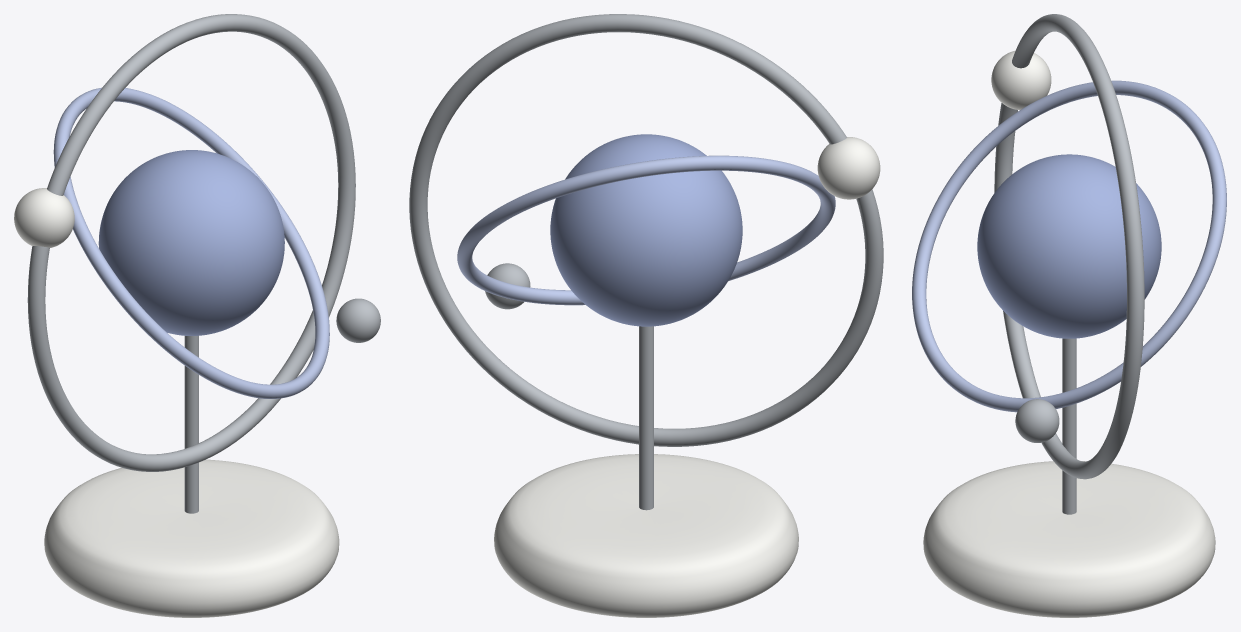
File: orbit-sculpture.glb
The picture shows the model from 3 angles, left to right: view 1: azimuth 30°, elevation 25°; view 2: azimuth 150°, elevation 25°; view 3: azimuth 270°, elevation 25°; orthographic projection. The views are drawn at different scales.
Parts seen in each view (by area): view 1: sculpted-surface, outer-orbital-ring-/-inner-orbital-ring-/-orbiting-satellite (×4), polished-central-sphere-005, turned-ceramic-plinth-002; view 2: sculpted-surface, outer-orbital-ring-/-inner-orbital-ring-/-orbiting-satellite (×4), polished-central-sphere-005, turned-ceramic-plinth-002; view 3: sculpted-surface, outer-orbital-ring-/-inner-orbital-ring-/-orbiting-satellite (×4), polished-central-sphere-005, turned-ceramic-plinth-002.
Boxes of the visible parts, x1=… form: sculpted-surface: x1=44, y1=459, x2=339, y2=617; outer-orbital-ring-/-inner-orbital-ring-/-orbiting-satellite (×4): x1=14, y1=14, x2=380, y2=471; polished-central-sphere-005: x1=98, y1=150, x2=284, y2=335; turned-ceramic-plinth-002: x1=184, y1=335, x2=198, y2=513; sculpted-surface: x1=494, y1=454, x2=798, y2=617; outer-orbital-ring-/-inner-orbital-ring-/-orbiting-satellite (×4): x1=409, y1=14, x2=883, y2=446; polished-central-sphere-005: x1=550, y1=134, x2=742, y2=326; turned-ceramic-plinth-002: x1=639, y1=326, x2=653, y2=510; sculpted-surface: x1=923, y1=461, x2=1215, y2=617; outer-orbital-ring-/-inner-orbital-ring-/-orbiting-satellite (×4): x1=912, y1=14, x2=1226, y2=479; polished-central-sphere-005: x1=977, y1=154, x2=1161, y2=338; turned-ceramic-plinth-002: x1=1062, y1=338, x2=1076, y2=514.
Bounding box in the file's own units: 1.54 × 2 × 1.08.
